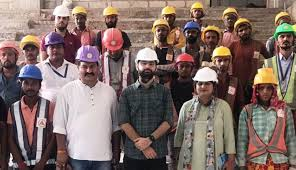arm: (116, 86, 154, 154), (51, 88, 70, 169), (4, 99, 23, 166), (220, 104, 237, 169), (235, 104, 250, 168), (284, 105, 295, 168)
face: (75, 59, 100, 84), (192, 80, 215, 101), (19, 76, 42, 96), (253, 82, 275, 101), (273, 30, 295, 49), (45, 42, 65, 62), (136, 59, 158, 75), (211, 55, 231, 70), (235, 24, 253, 39), (53, 14, 69, 28), (101, 12, 118, 25), (74, 12, 88, 25)
glove: (111, 147, 123, 167)
goggle: (76, 64, 98, 77), (277, 33, 295, 41)
helmet: (250, 65, 278, 86), (16, 61, 45, 81), (191, 64, 219, 82), (134, 45, 159, 62), (18, 32, 41, 49), (272, 20, 295, 35), (210, 43, 232, 58), (233, 14, 253, 29), (100, 3, 121, 16), (51, 3, 70, 17), (183, 18, 202, 31), (71, 3, 89, 16), (160, 3, 178, 15), (221, 5, 239, 17), (203, 22, 221, 34), (189, 1, 204, 10)
human: (52, 45, 121, 168), (120, 46, 174, 167), (175, 66, 237, 168), (236, 68, 295, 168), (6, 60, 55, 169), (96, 2, 130, 57)
noglove: (53, 145, 69, 169), (132, 134, 152, 152), (32, 153, 51, 169), (111, 143, 123, 167), (8, 146, 23, 165), (223, 153, 236, 169)
nogoggle: (192, 81, 214, 91), (20, 78, 40, 88), (77, 61, 96, 71), (254, 83, 273, 92), (276, 31, 294, 40), (180, 64, 191, 69)
novest: (54, 79, 119, 160), (176, 95, 235, 166), (122, 79, 173, 153), (264, 49, 296, 98), (40, 58, 76, 96)
vest: (239, 99, 291, 165), (8, 93, 52, 166), (264, 49, 296, 97), (229, 35, 261, 75), (103, 51, 131, 85), (99, 25, 126, 53), (1, 66, 19, 104)
